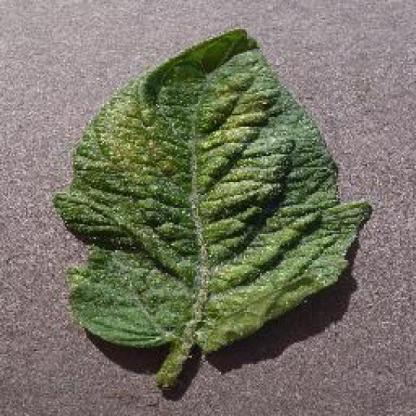Tomato_Spider_Mites: (55, 29, 368, 350)
